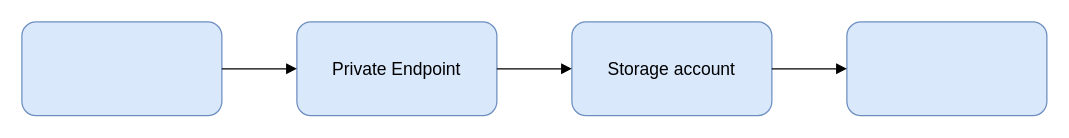
This 1069x138 diagram has some shape labels left out. The centre of each missing label's shape, as x and y in pixels:
"Private DNS zone" belongs at point (946, 68).
"Workload VNet" belongs at point (121, 68).
